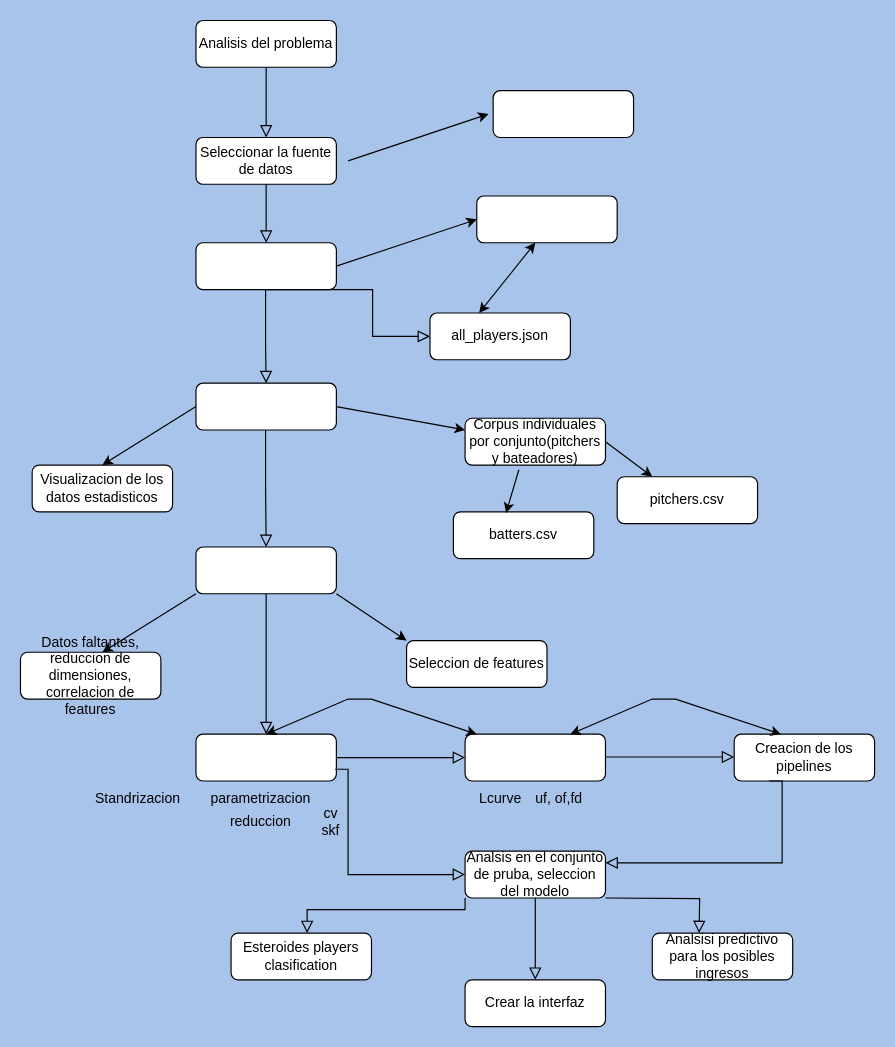
This 895x1047 diagram has some shape labels left out. Here are the shapes that lost their labels. From the top down, the box of each, then its label:
(492, 90, 634, 137): baseball referrence
(476, 195, 617, 243): json individuales y backup de html por cada jugador
(195, 242, 336, 290): Scraper
(195, 382, 336, 430): Preprocesamiento
(195, 546, 336, 594): Analsis del corpus
(195, 733, 336, 781): Entrenamiento
(464, 733, 605, 781): Comparacion de los modelos
